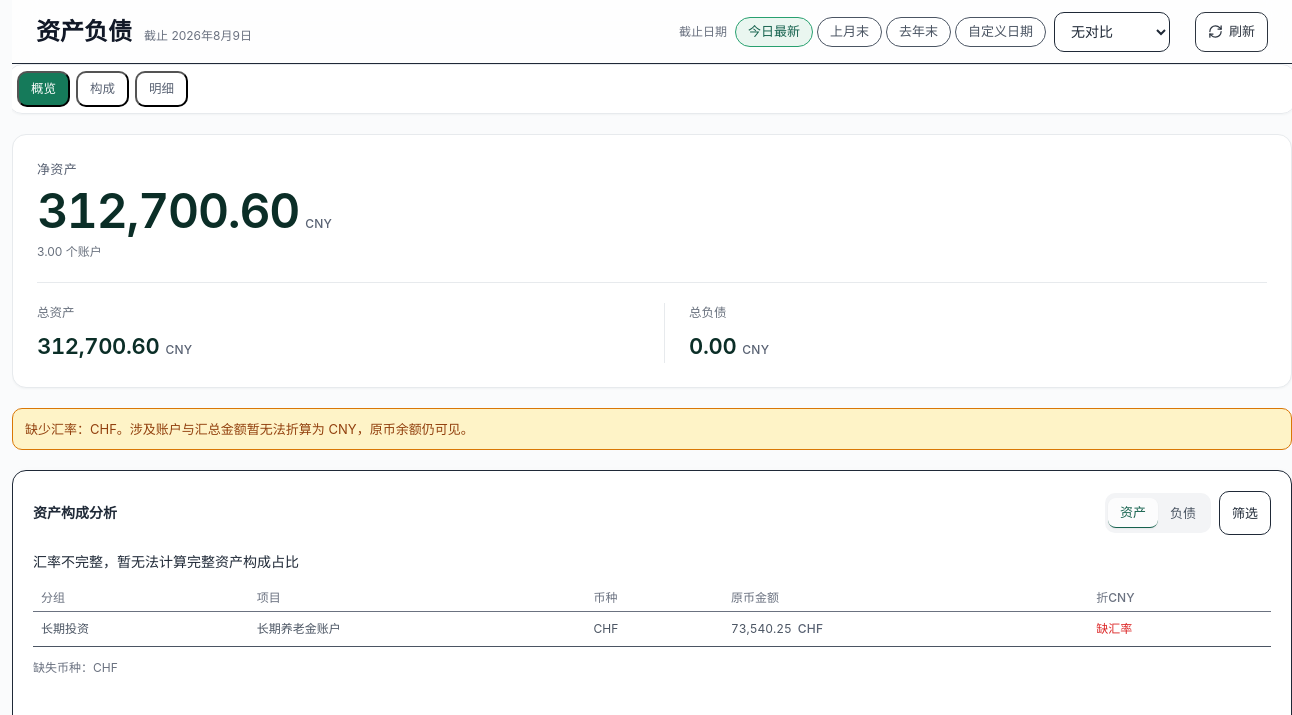
Test: BalanceSheetPage › 对比模式下新账户显示新增徽标且不出现 +∞%
Select "对比上月末" in the dropdown named "对比基准" at (1112, 32), box left=1054, top=12, right=1170, bottom=52
(page scrolled)
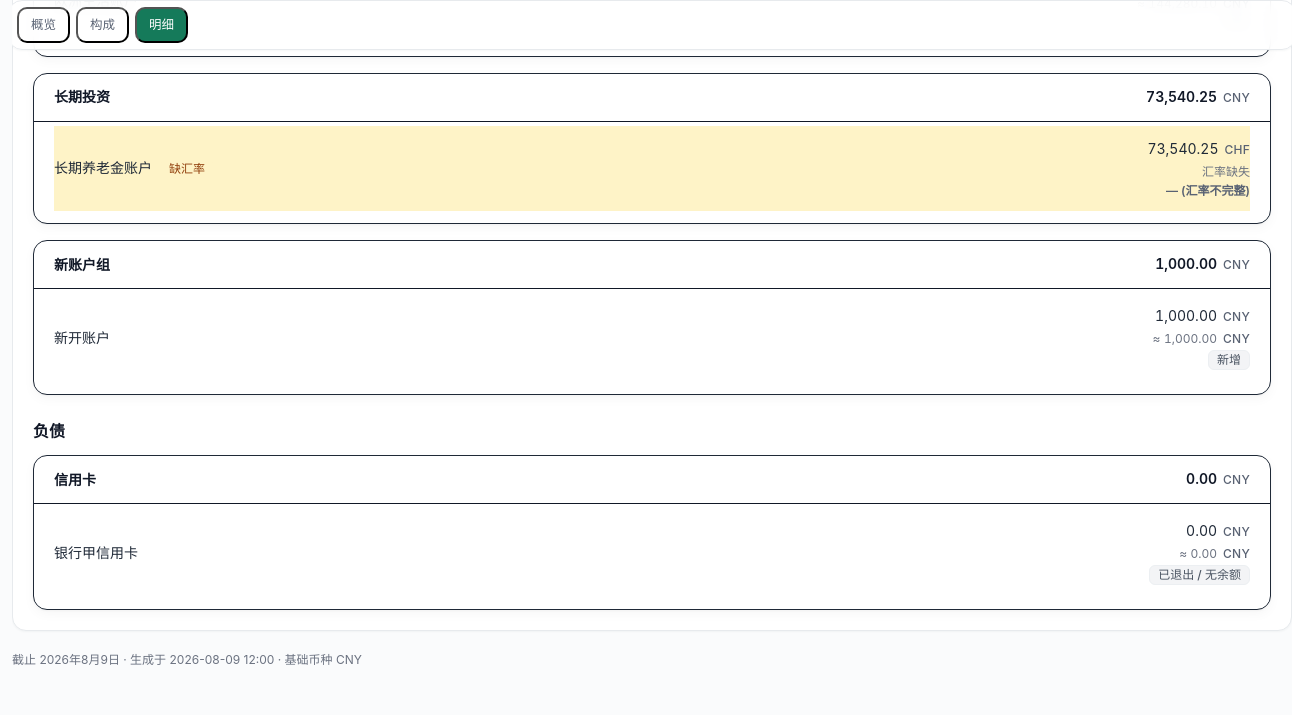
Now the text "新增" is shown, box left=1208, top=350, right=1250, bottom=370
